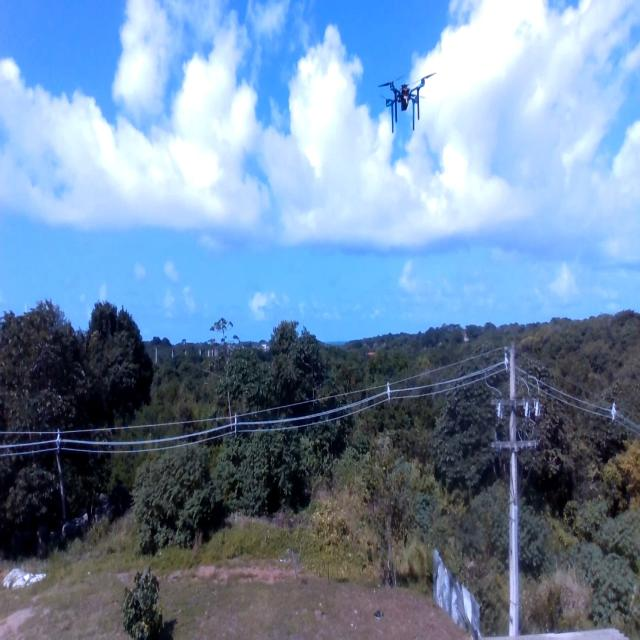-uav-: (372, 56, 435, 141)
